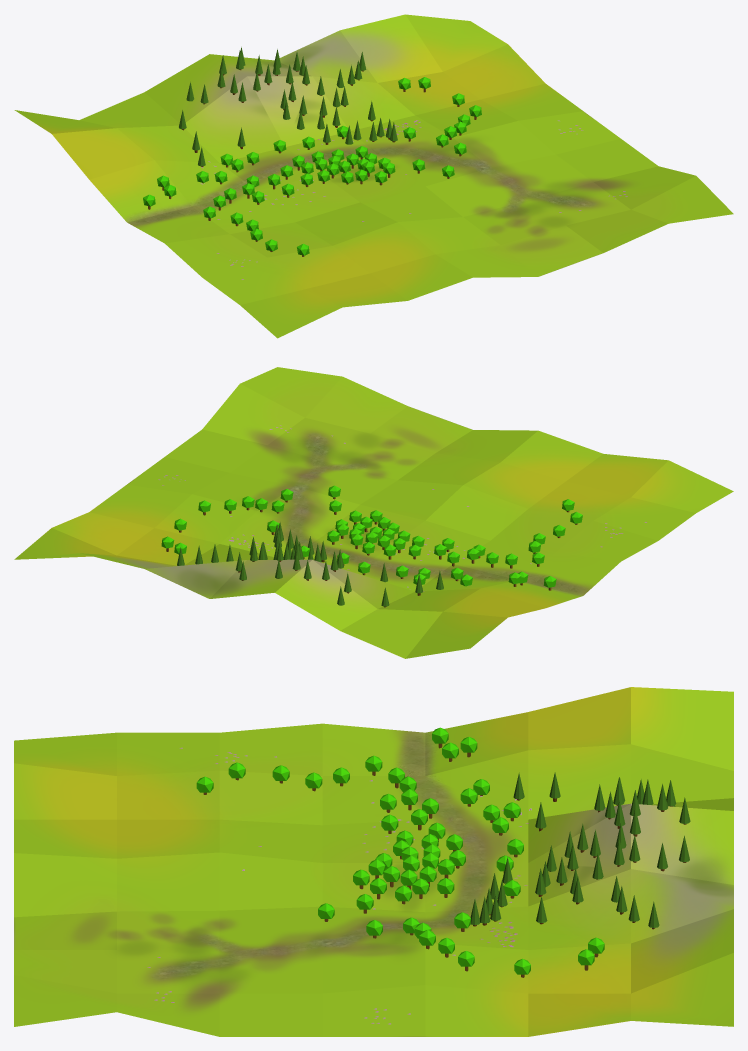
The model's file is Terrain.glb.
The picture shows the model from 3 angles, top to bottom: view 1: azimuth 30°, elevation 25°; view 2: azimuth 150°, elevation 25°; view 3: azimuth 270°, elevation 25°; orthographic projection. The views are drawn at different scales.
Parts seen in each view (by area): view 1: Plane; view 2: Plane; view 3: Plane.
Boxes of the visible parts, box(x1,y1,x2,y2) form: Plane: box(14, 14, 733, 338); Plane: box(14, 367, 733, 658); Plane: box(14, 687, 733, 1036).
Bounding box in the file's own units: 72.8 × 10.43 × 72.8.
4 materials, 4 textured.
